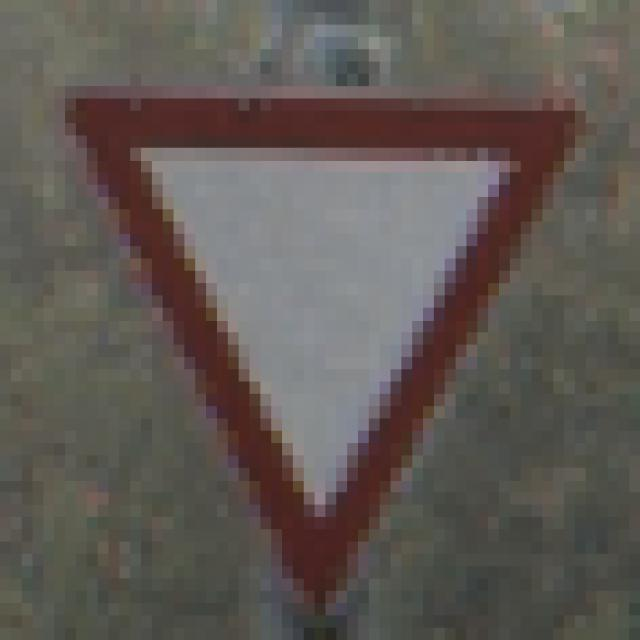Give Way: (55, 63, 587, 580)
